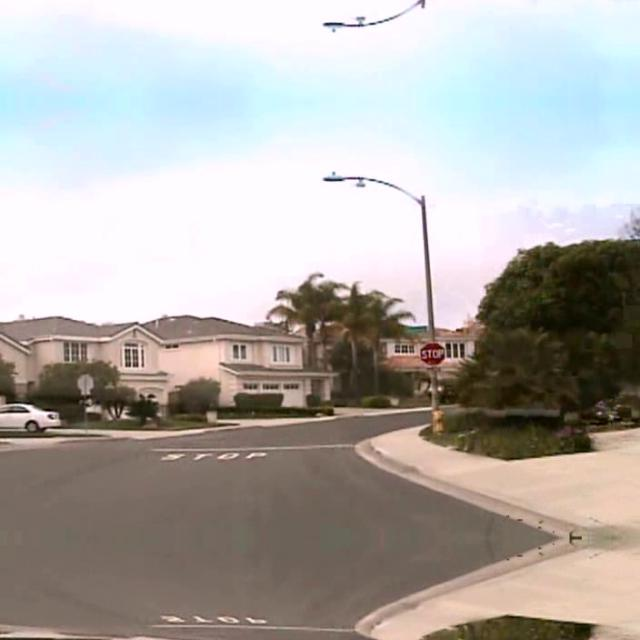stop: (419, 341, 445, 365)
